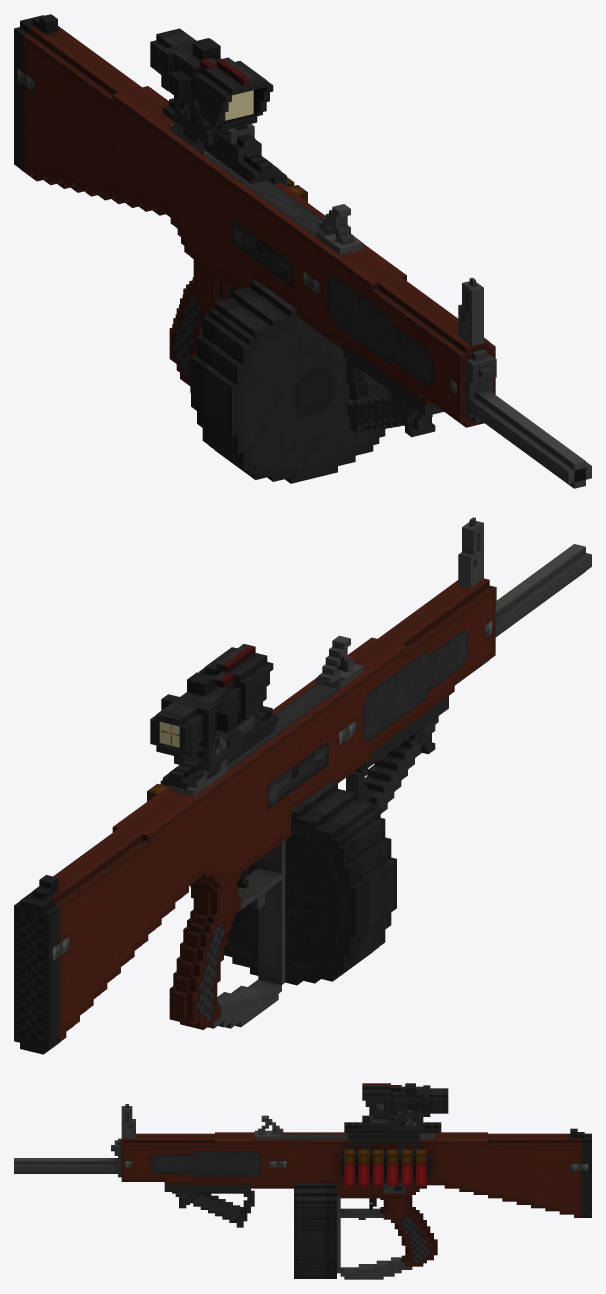
The picture shows the model from 3 angles, top to bottom: view 1: azimuth 30°, elevation 25°; view 2: azimuth 150°, elevation 25°; view 3: azimuth 270°, elevation 25°; orthographic projection. The views are drawn at different scales.
Visible parts, largest first — view 1: AA12, AA12_CLIP, SCOPE_ACOG, GRIP2, AA12_PLANK (×2), AA12_SIIGHTS, SCOPE_EOTECH, AA12_BOLT; view 2: AA12, AA12_CLIP, SCOPE_ACOG, GRIP2, AA12_SIIGHTS, AA12_PLANK, SCOPE_EOTECH, AA12_BOLT; view 3: AA12, AA12_CLIP, SCOPE_ACOG, GRIP2, AA12_PLANK, SCOPE_EOTECH, AA12_SIIGHTS, AA12_BOLT.
Boxes of the visible parts, x1,y1,x2,y2 form: AA12: (14, 14, 591, 488); AA12_CLIP: (191, 279, 391, 483); SCOPE_ACOG: (150, 28, 273, 161); GRIP2: (343, 344, 443, 437); AA12_PLANK (×2): (163, 98, 286, 187); AA12_SIIGHTS: (169, 121, 483, 345); SCOPE_EOTECH: (174, 90, 254, 145); AA12_BOLT: (316, 204, 363, 255); AA12: (14, 544, 591, 1054); AA12_CLIP: (191, 781, 396, 985); SCOPE_ACOG: (150, 644, 273, 757); GRIP2: (346, 696, 448, 817); AA12_SIIGHTS: (169, 517, 483, 796); AA12_PLANK: (163, 706, 278, 789); SCOPE_EOTECH: (174, 714, 254, 771); AA12_BOLT: (316, 635, 363, 689); AA12: (14, 1128, 591, 1279); AA12_CLIP: (294, 1183, 336, 1278); SCOPE_ACOG: (362, 1083, 448, 1129); GRIP2: (164, 1185, 254, 1227); AA12_PLANK: (344, 1122, 441, 1155); SCOPE_EOTECH: (369, 1109, 423, 1131); AA12_SIIGHTS: (121, 1104, 433, 1139); AA12_BOLT: (254, 1115, 283, 1139).
Size of the model in its own units: 0.2756 by 0.5807 by 1.58.
6 materials, 6 textured.
